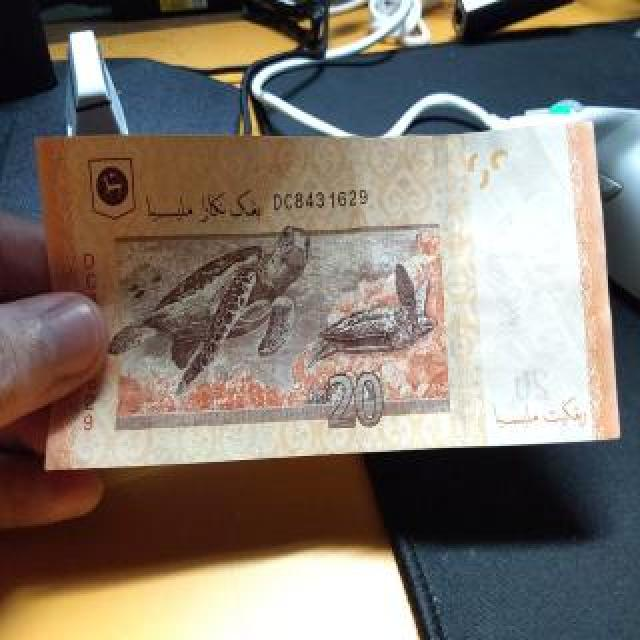20 Ringgit: (34, 114, 626, 482)
